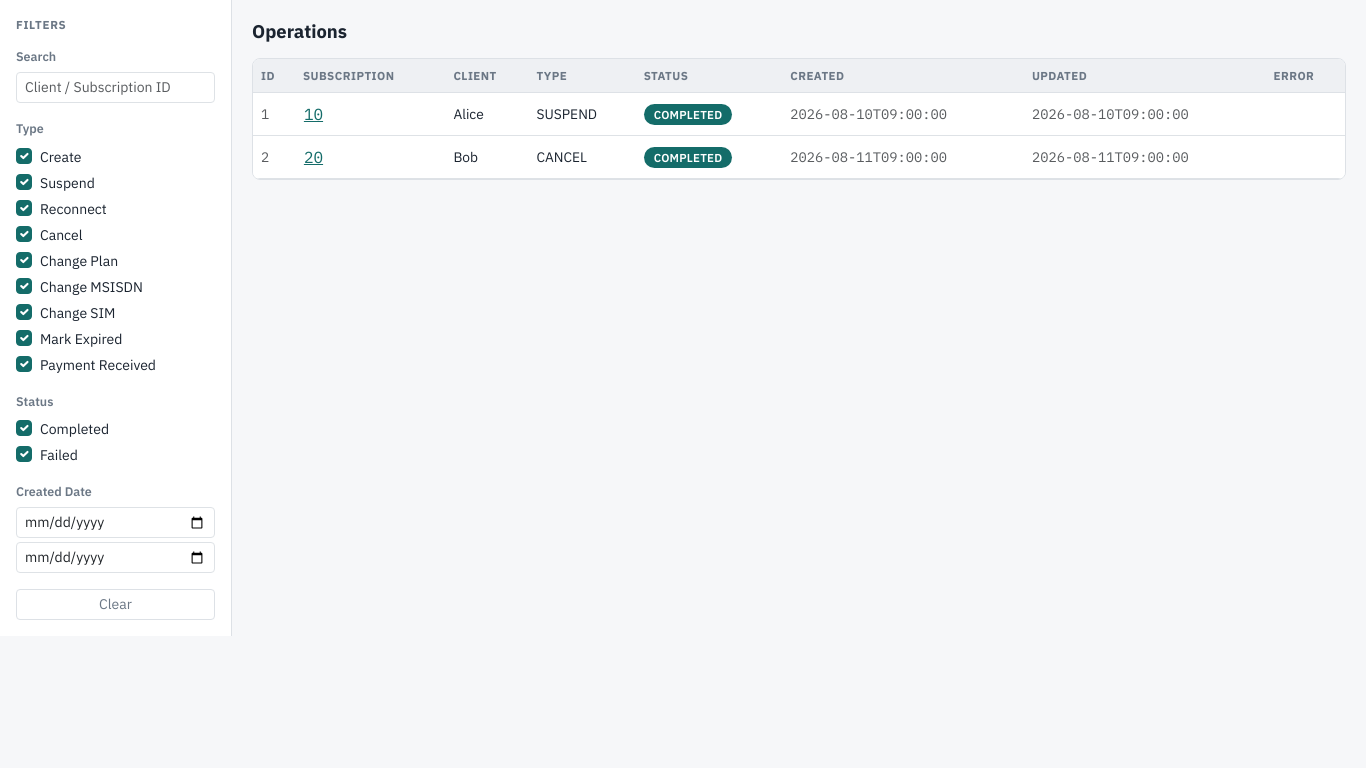
Test: filters live by search text
Expected: the text "Alice" is shown, [445,93,528,136]
Type "bob" into the field with placeholder "Client / Subscription ID" at point(116, 88), box [16,72,215,103]
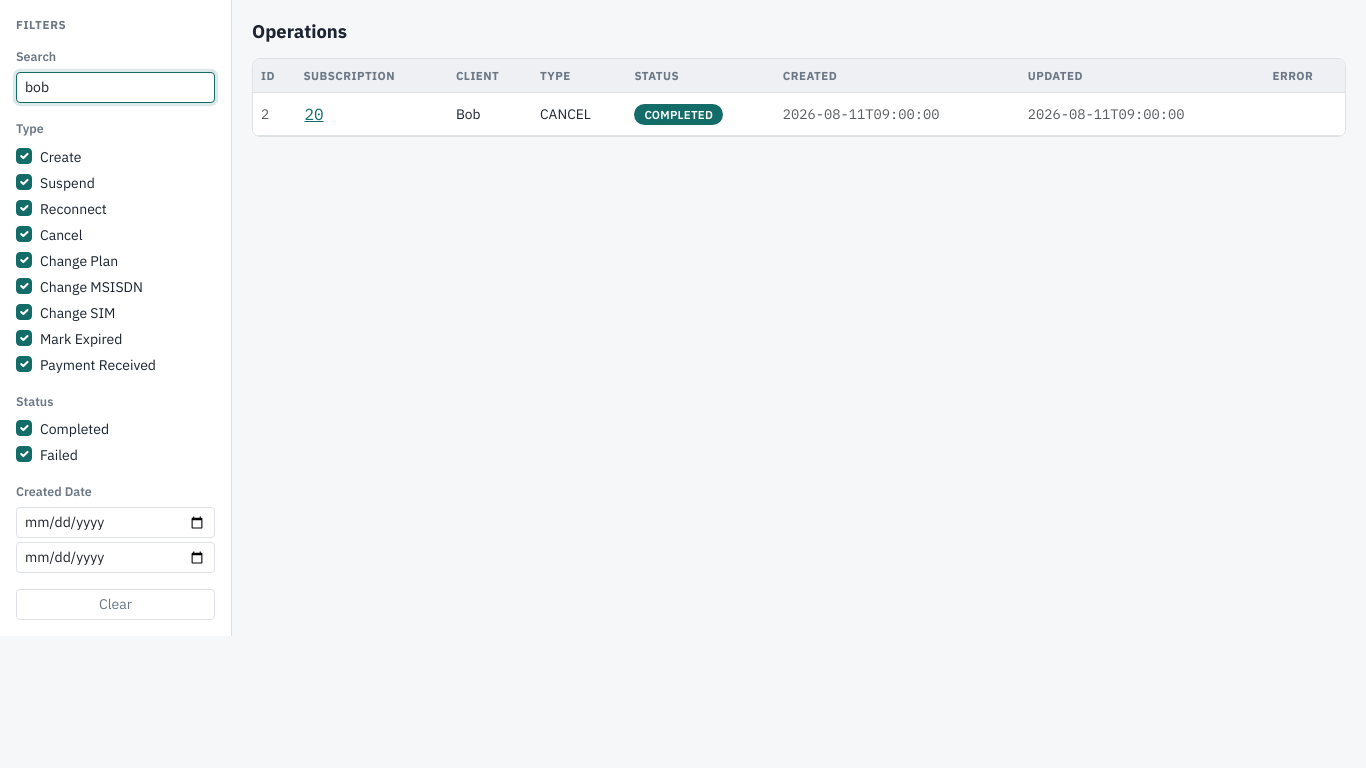
Expected: the text "Bob" is shown, [448,93,532,136]
Result: the text "Alice" is gone
